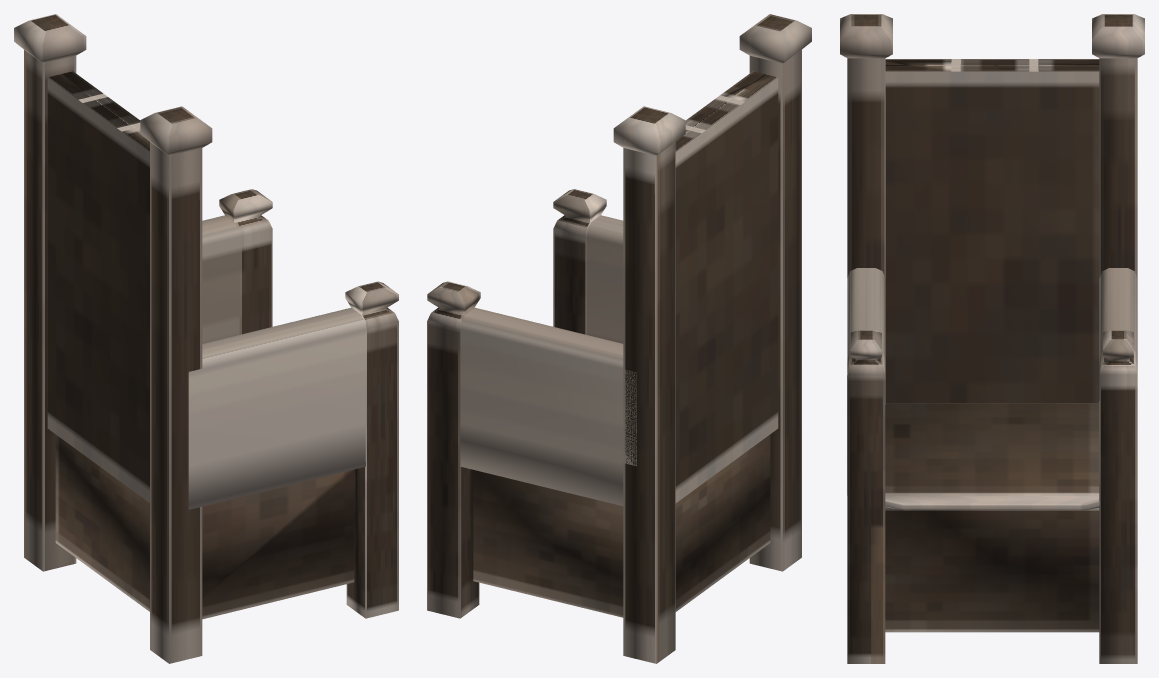
File: chair.fbx
3 renders of one model, left to right at view 1: azimuth 30°, elevation 25°; view 2: azimuth 150°, elevation 25°; view 3: azimuth 270°, elevation 25°, orthographic.
Parts seen in each view (by area): view 1: polySurface1; view 2: polySurface1; view 3: polySurface1.
Part boxes in pixels (bbox=[...]): polySurface1: bbox=[14, 14, 398, 663]; polySurface1: bbox=[427, 14, 811, 663]; polySurface1: bbox=[840, 14, 1144, 663].
Bounding box in the file's own units: 12.26 × 25.94 × 13.28.
Materials: 1 (1 with a texture image).
